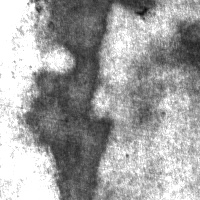patches: (24, 33, 115, 199), (34, 1, 153, 53), (151, 18, 199, 71)
